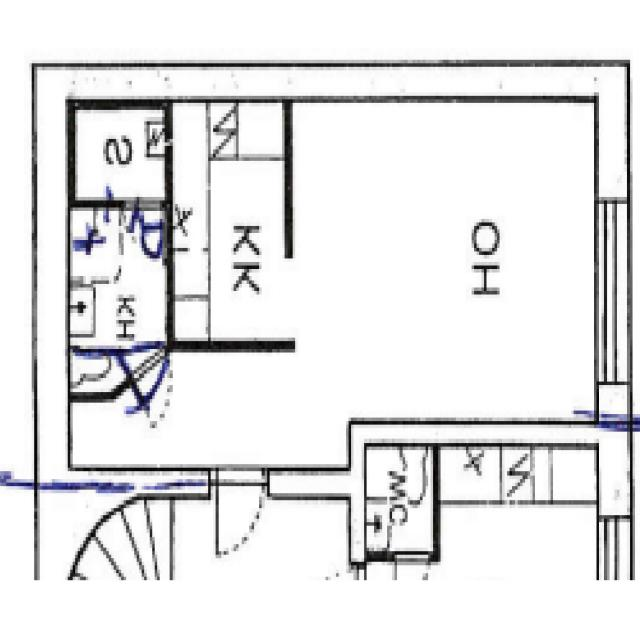door: (218, 468, 264, 564), (117, 341, 165, 419)
